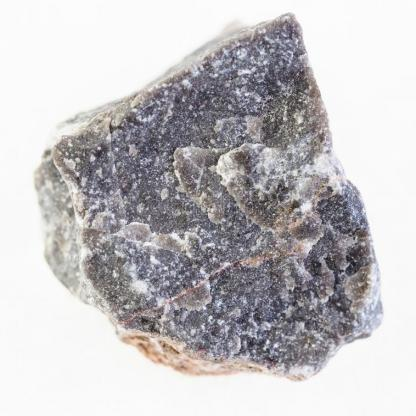Sedimentary_Limestone: (29, 8, 388, 387)
